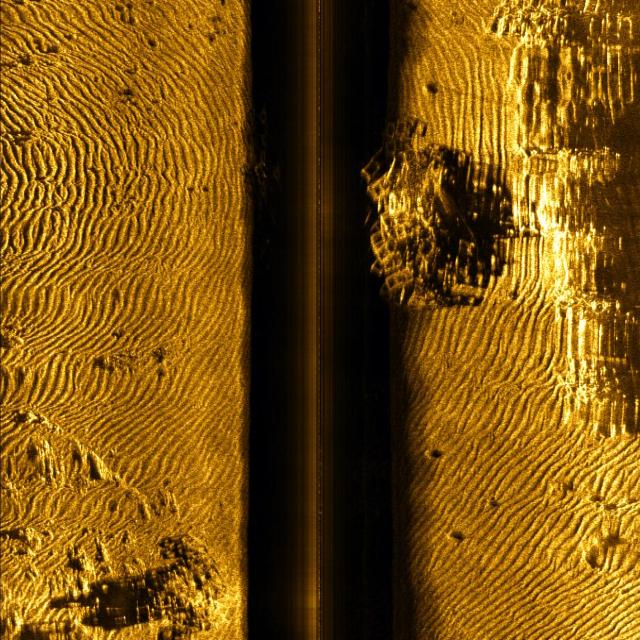artificial reef: (356, 113, 481, 303), (251, 94, 282, 205)
